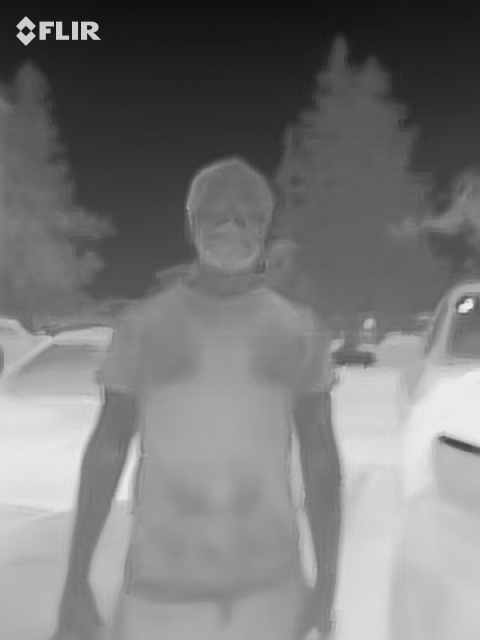head: (184, 157, 275, 278)
